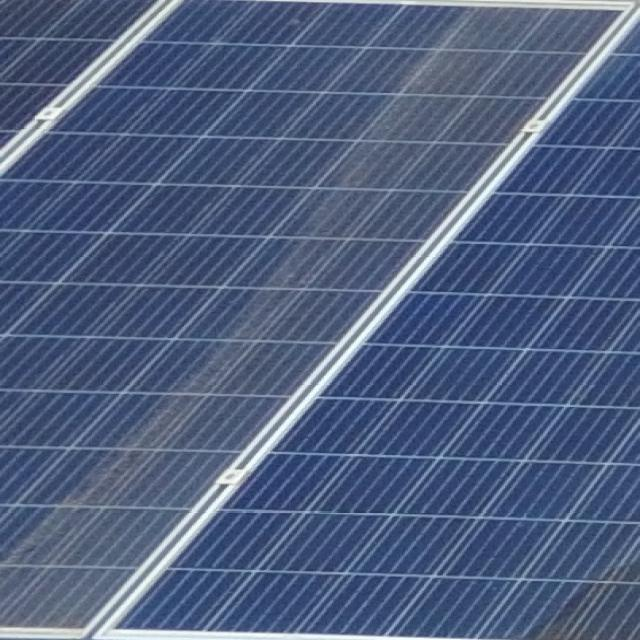Dust: (11, 6, 618, 632), (148, 216, 410, 458), (310, 62, 542, 255), (367, 10, 611, 192), (3, 458, 231, 632), (0, 1, 159, 87), (541, 519, 633, 640)
